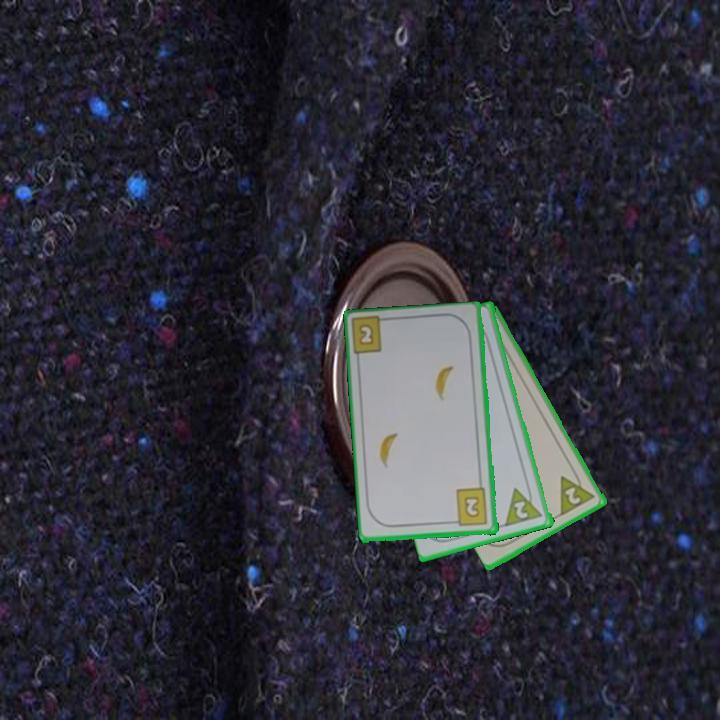2b: (449, 485, 491, 529), (356, 323, 377, 349)
2p: (557, 466, 598, 518), (511, 498, 531, 522)
